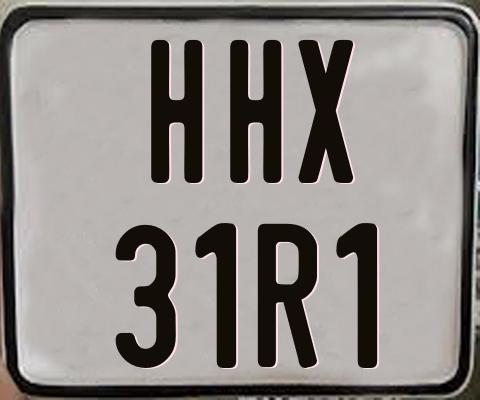1: (333, 220, 377, 367), (194, 220, 236, 368)
3: (113, 225, 174, 369)
H: (149, 37, 205, 186), (228, 39, 284, 182)
R: (258, 223, 323, 372)
X: (295, 39, 352, 182)
